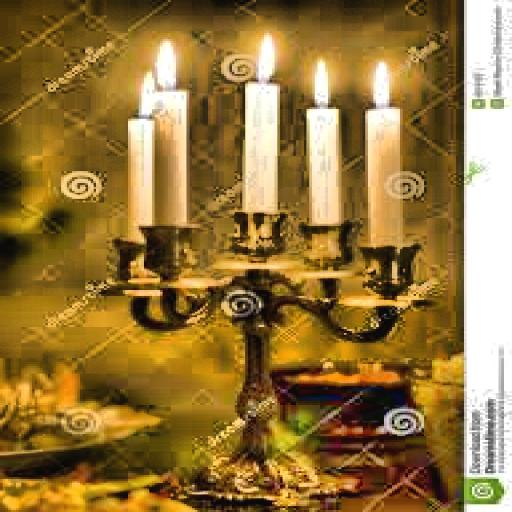fire: (141, 35, 184, 88), (128, 62, 165, 123), (304, 54, 341, 113), (360, 60, 400, 113), (251, 27, 280, 86)
